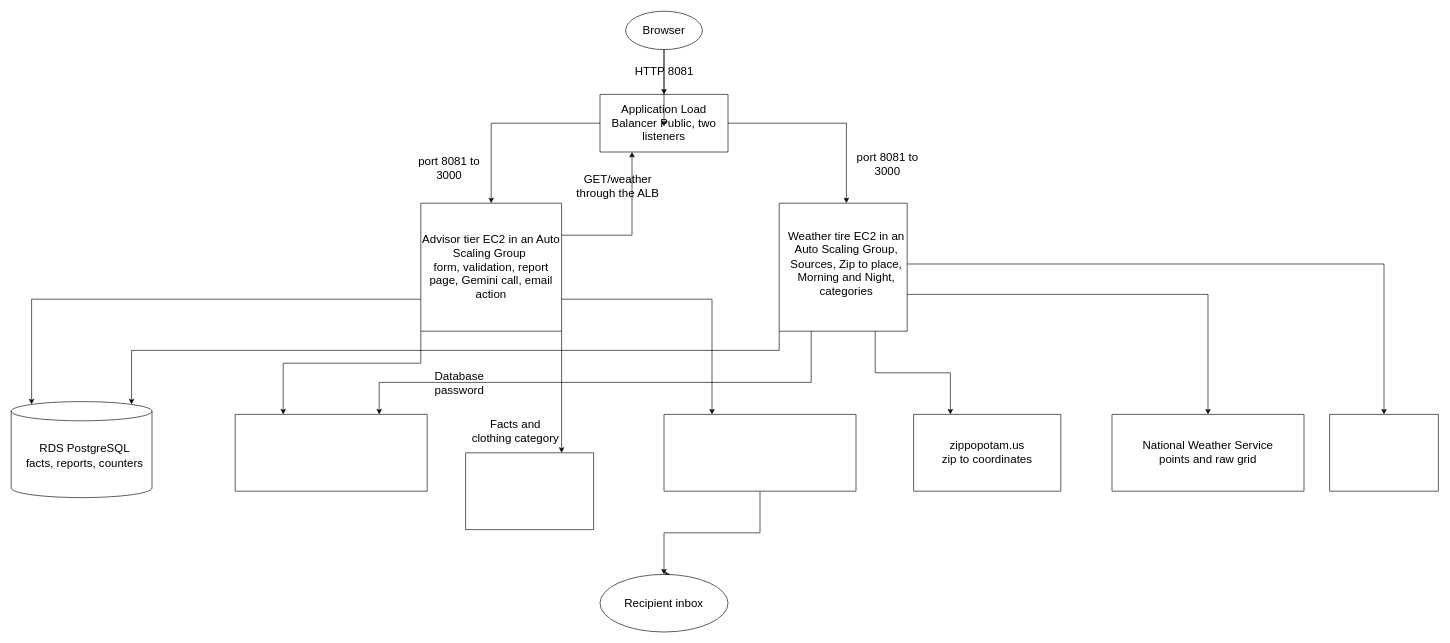
Some shapes in this 1450 by 643 pixel diagram are drawn without their labels. The box of each missing label's shape, as (x1, y1, x2, y2) in pixels:
Amazon SNS topic one filtered subscription per address: (663, 414, 856, 491)
Google Gemini advise only: (465, 452, 594, 530)
Open-Meteo UV and gaps: (1329, 414, 1438, 491)
SSM parameter Store Gemini Key, database password: (235, 414, 427, 491)
